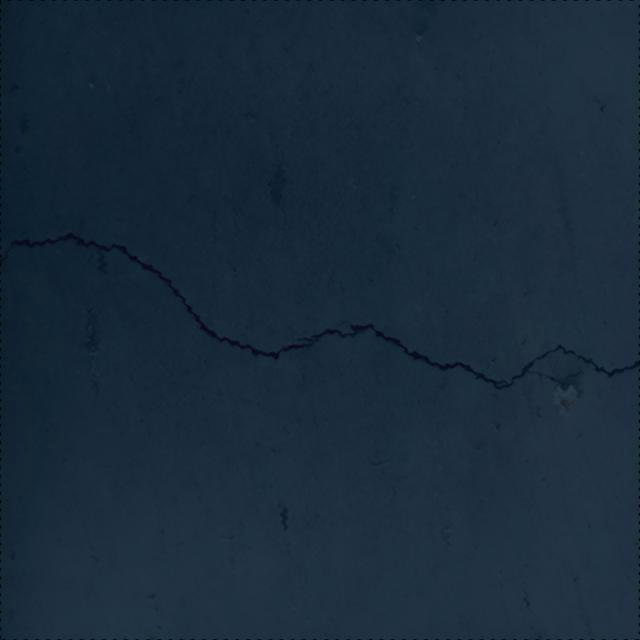crack: (0, 232, 640, 391)
